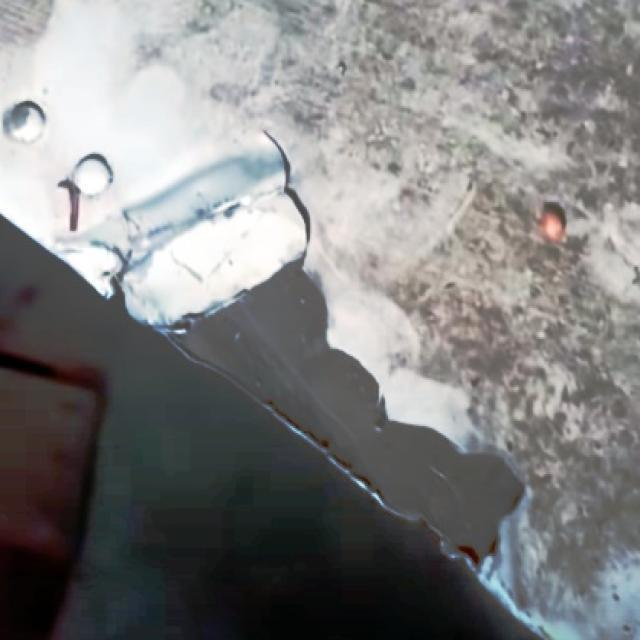crack: (268, 148, 386, 299)
